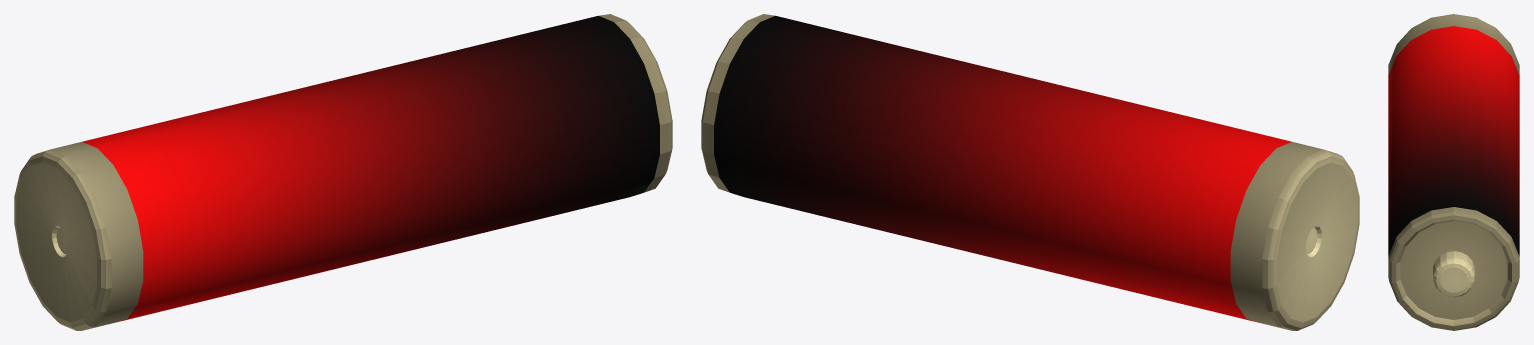
File: Battery_01.FBX
The picture shows the model from 3 angles, left to right: view 1: azimuth 30°, elevation 25°; view 2: azimuth 150°, elevation 25°; view 3: azimuth 270°, elevation 25°; orthographic projection. The views are drawn at different scales.
Parts seen in each view (by area): view 1: Battery002; view 2: Battery002; view 3: Battery002.
Boxes of the visible parts, box(x1,y1,x2,y2) form: Battery002: box(14, 14, 672, 330); Battery002: box(701, 14, 1359, 330); Battery002: box(1388, 14, 1519, 330).
Size of the model in its own units: 780 by 211 by 208.
1 material, 1 textured.
